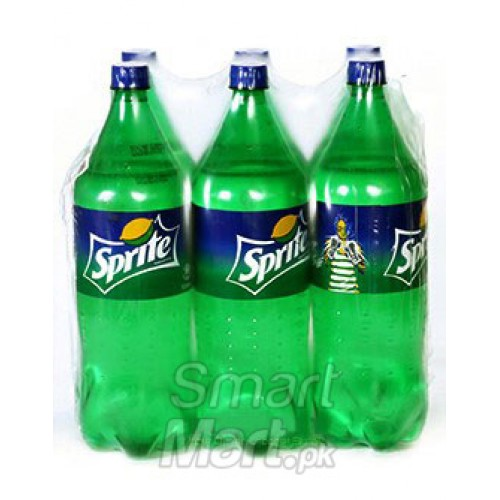Copy of Copy of Sprite: (186, 68, 317, 466)
Copy of Sprite: (307, 55, 439, 453)
Sprite: (69, 65, 201, 462)
